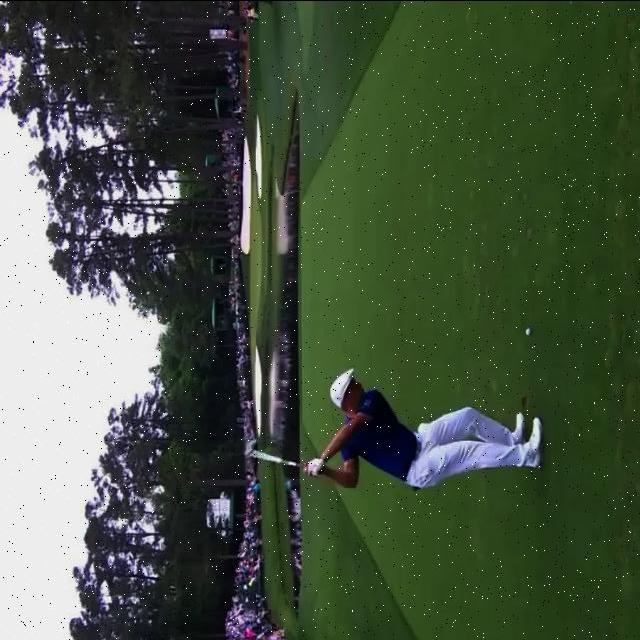ClubHandle: (246, 437, 311, 474)
ClubHead: (247, 441, 257, 454)
GolfBall: (523, 327, 532, 336)
